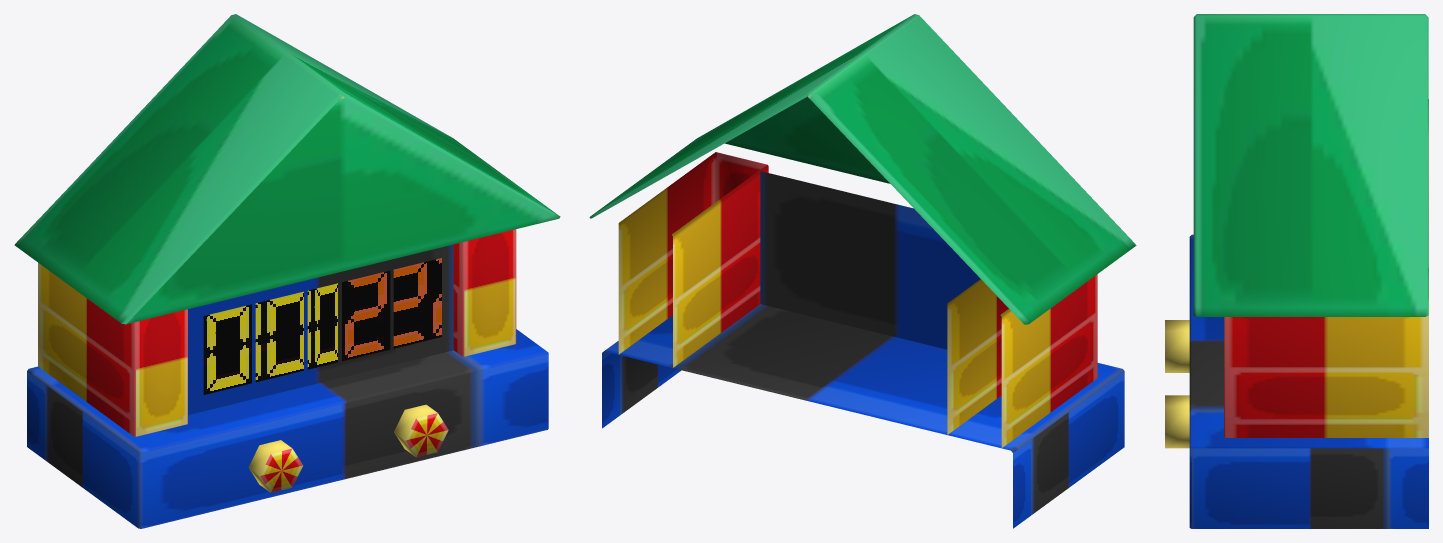
The model's file is rmk_col_wall.dae.
3 views of the same model, side by side, from view 1: azimuth 30°, elevation 25°; view 2: azimuth 150°, elevation 25°; view 3: azimuth 270°, elevation 25° (orthographic). The views are drawn at different scales.
Visible parts, largest first — view 1: rmk_col_wall; view 2: rmk_col_wall; view 3: rmk_col_wall.
Part boxes in pixels (x1,y1,x2,y2): rmk_col_wall: [14, 14, 560, 528]; rmk_col_wall: [589, 14, 1136, 528]; rmk_col_wall: [1165, 14, 1428, 528].
Size of the model in its own units: 29.84 by 24.93 by 14.63.
3 materials, 3 textured.
